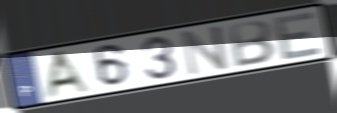3: (139, 34, 178, 82)
6: (91, 43, 131, 89)
A: (43, 48, 96, 100)
B: (227, 18, 277, 69)
E: (273, 9, 326, 63)
N: (178, 23, 231, 79)
